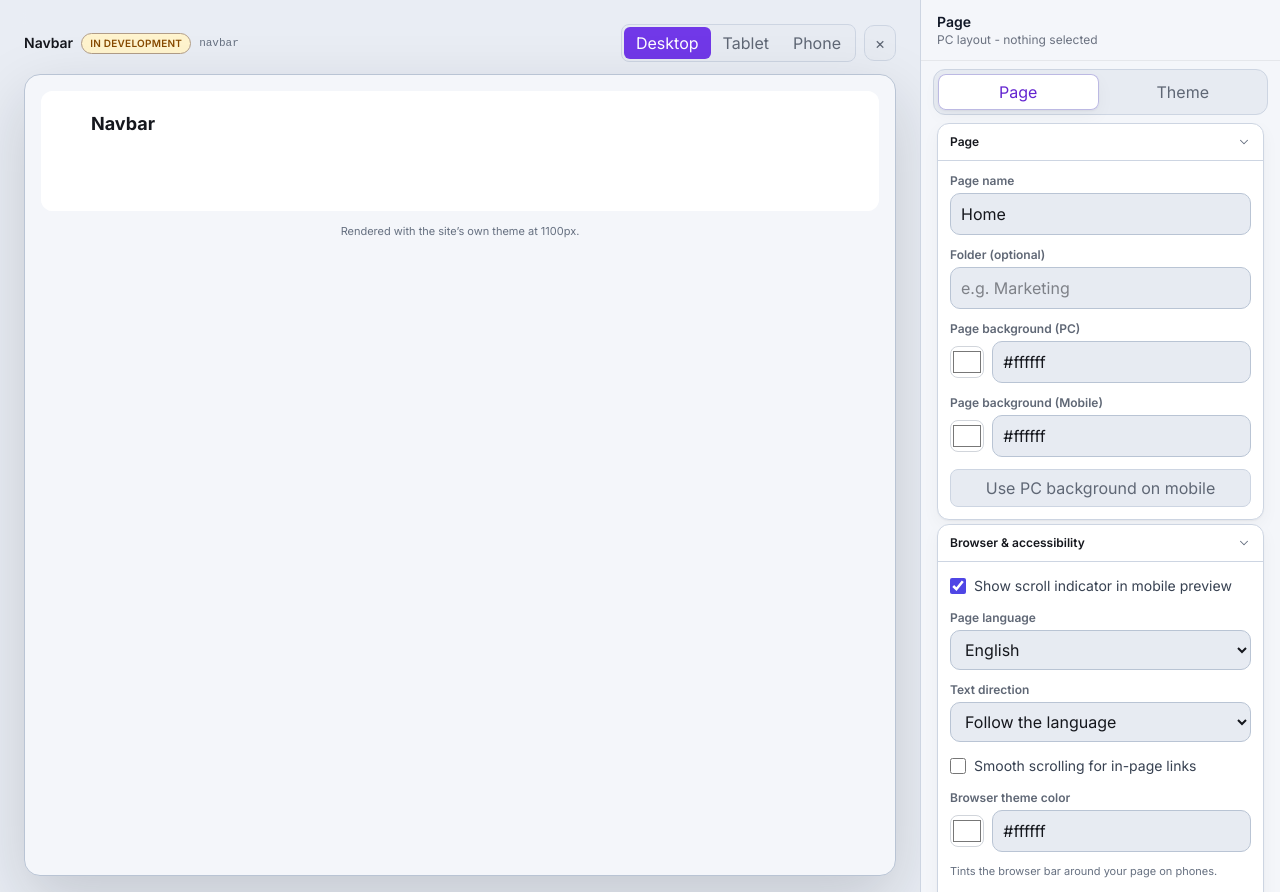
Scenario: the width picked in the spotlight decides the breakpoint › uses the published cut-off: a 760px tablet gets the phone menu
Click the button "Tablet" at (746, 43), box [711,27,781,59]
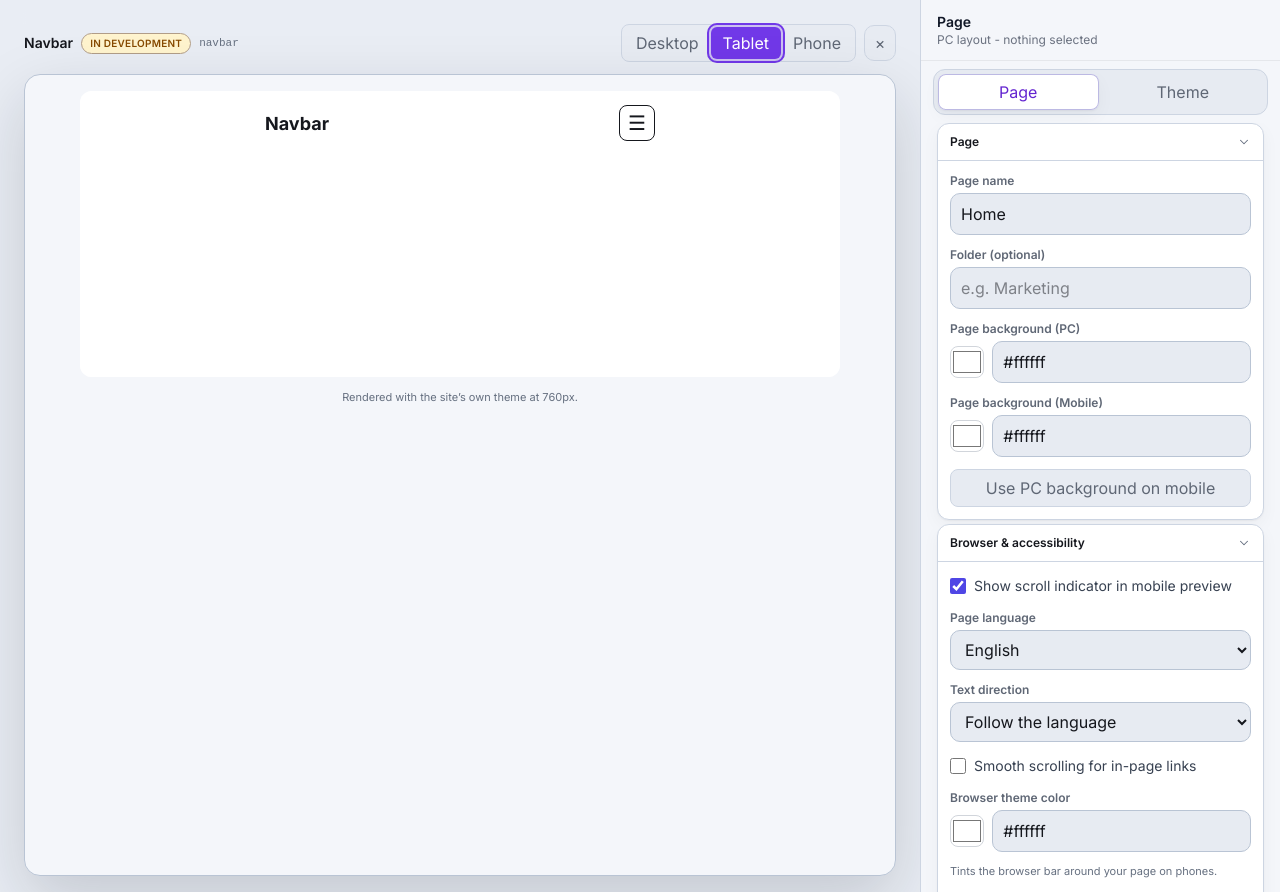
Expected: the button named "navigation menu" is shown, [619,105,655,141]
